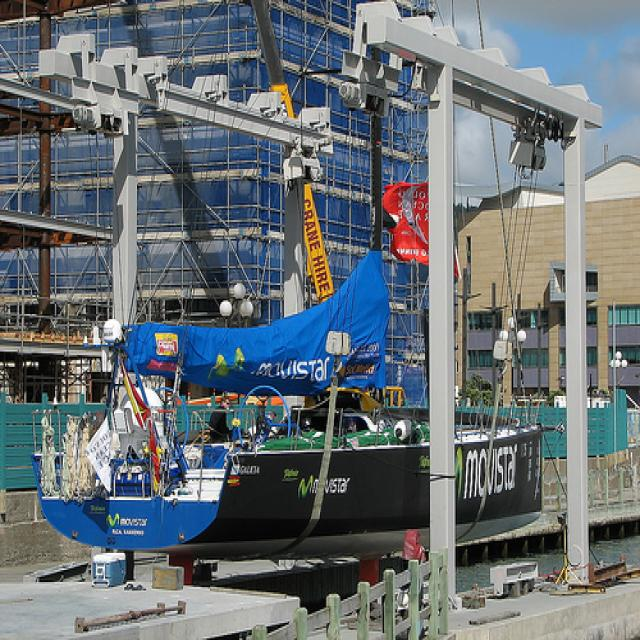boat: (29, 244, 550, 563)
